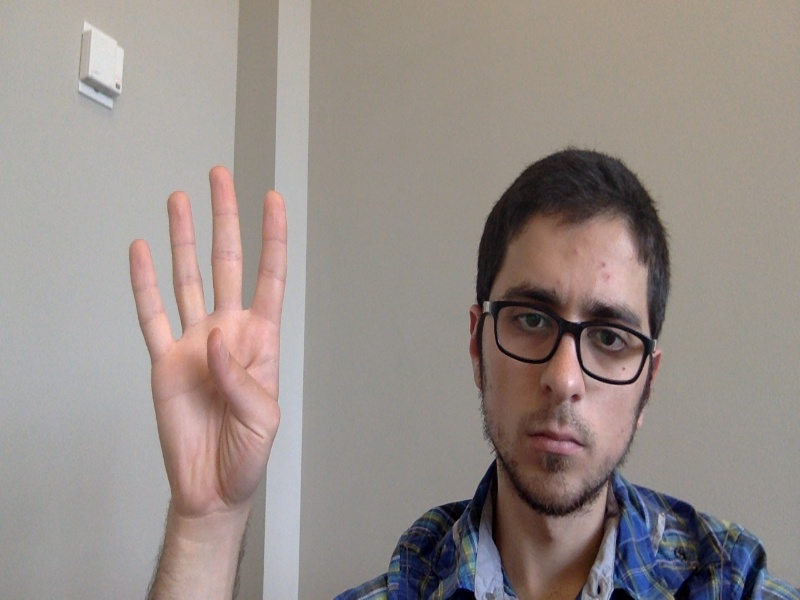4-hand: (126, 168, 289, 514)
